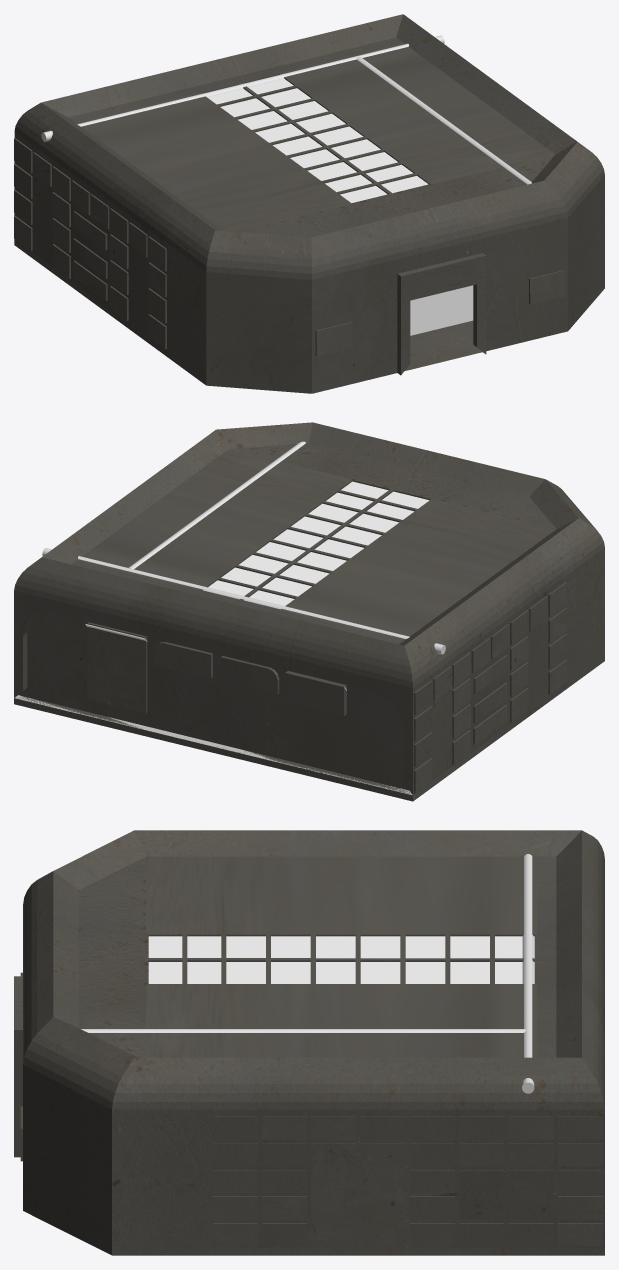
File: Infirmerie.fbx
3 views of the same model, one above another, from view 1: azimuth 30°, elevation 25°; view 2: azimuth 150°, elevation 25°; view 3: azimuth 270°, elevation 25° (orthographic). The views are drawn at different scales.
Visible parts, largest first — view 1: Cube.009; view 2: Cube.009; view 3: Cube.009.
Part boxes in pixels (x1,y1,x2,y2): Cube.009: (14, 14, 604, 393); Cube.009: (14, 422, 604, 801); Cube.009: (14, 830, 604, 1255).
Bounding box in the file's own units: 1933 × 668 × 1920.
